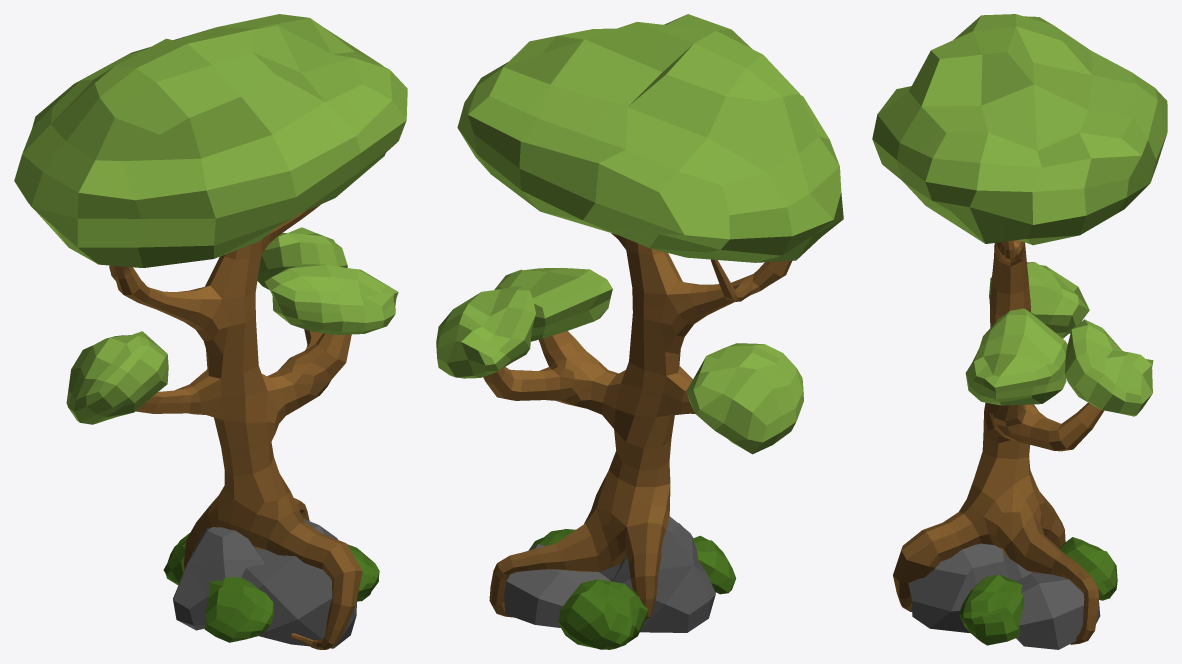
File: Tree.fbx
3 renders of one model, left to right at view 1: azimuth 30°, elevation 25°; view 2: azimuth 150°, elevation 25°; view 3: azimuth 270°, elevation 25°, orthographic. The views are drawn at different scales.
Parts seen in each view (by area): view 1: Plane; view 2: Plane; view 3: Plane.
Boxes of the visible parts, left/top/right/bottom form: Plane: left=14, top=14, right=407, bottom=649; Plane: left=436, top=14, right=843, bottom=649; Plane: left=872, top=14, right=1167, bottom=649.
Bounding box in the file's own units: 139 × 218 × 104.
